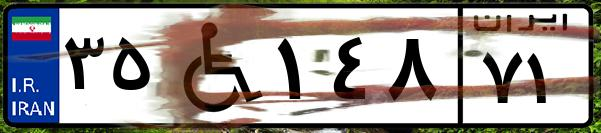1: (270, 28, 330, 110), (525, 38, 570, 115)
3: (57, 26, 110, 100)
4: (330, 28, 385, 110)
5: (110, 28, 158, 98)
7: (475, 38, 525, 113)
8: (385, 28, 445, 110)
ژ (معلولین و جانبازان): (158, 12, 270, 120)
